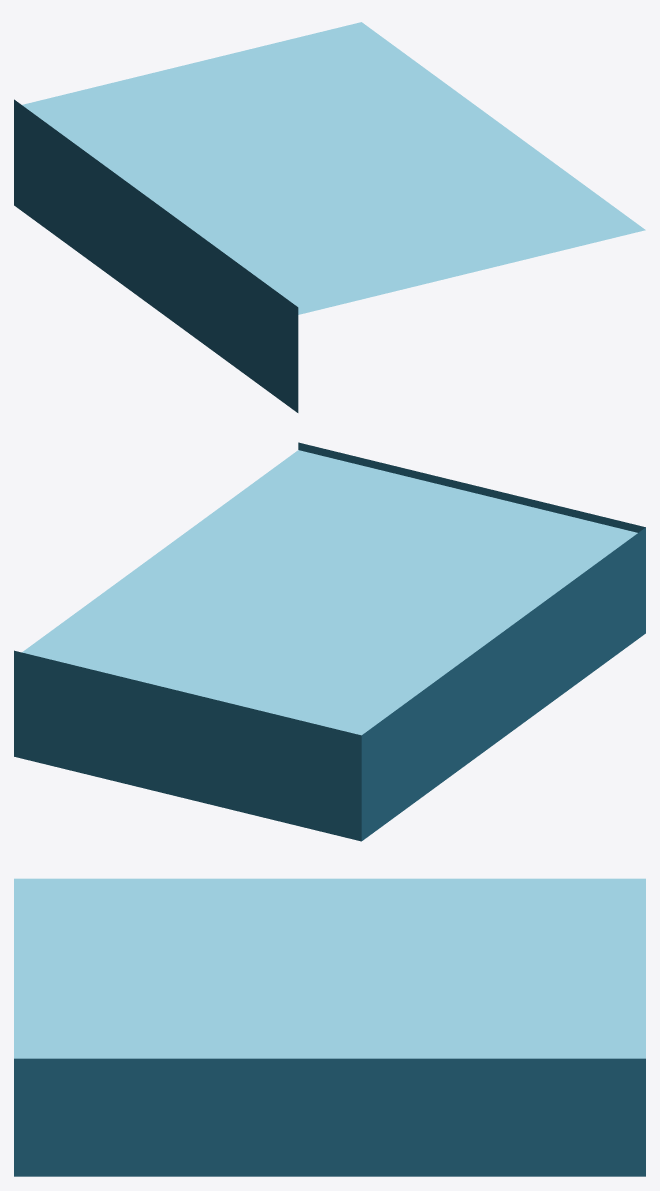
File: tank.glb
3 views of the same model, one above another, from view 1: azimuth 30°, elevation 25°; view 2: azimuth 150°, elevation 25°; view 3: azimuth 270°, elevation 25° (orthographic). The views are drawn at different scales.
Visible parts, largest first — view 1: tank; view 2: tank; view 3: tank.
Boxes of the visible parts, <box> form: tank: <box>14,22,645,412</box>; tank: <box>14,442,645,841</box>; tank: <box>14,878,645,1176</box>.
Bounding box in the file's own units: 24 × 7 × 34.
